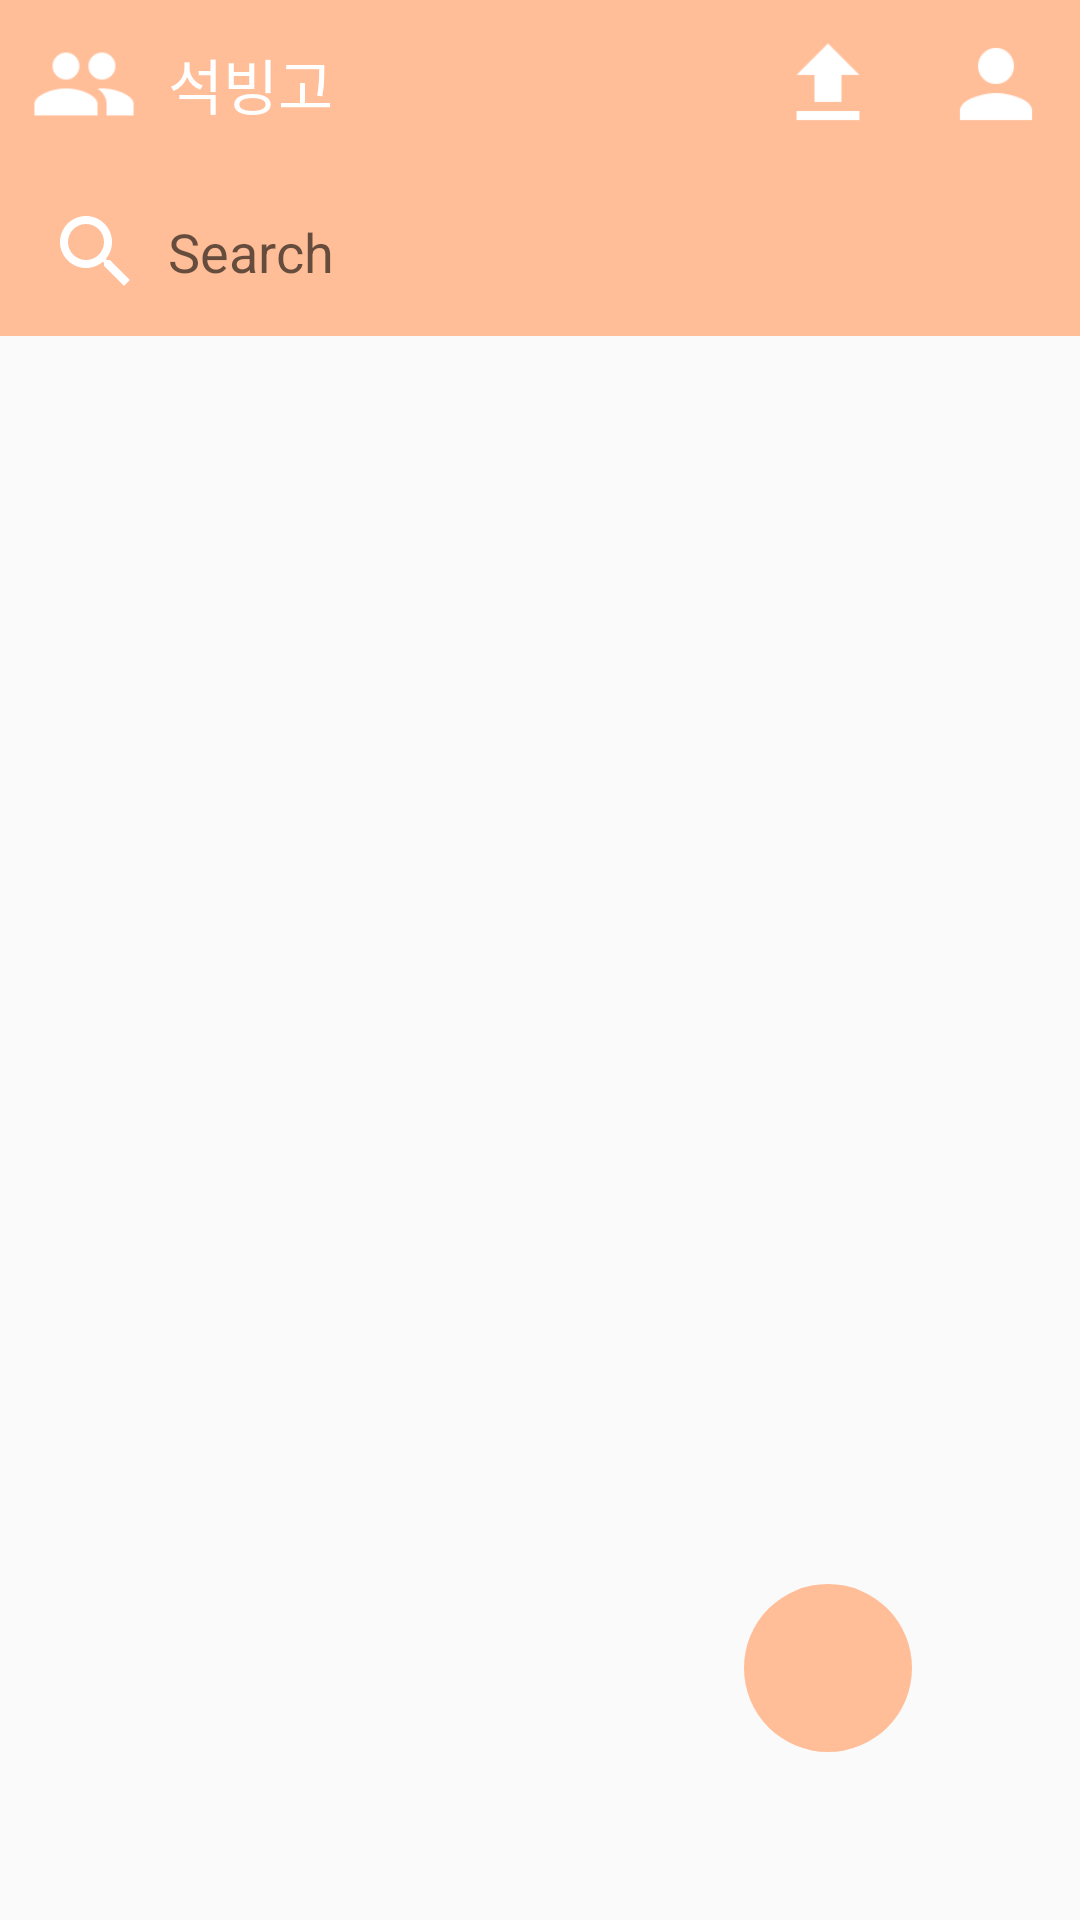

Icons on this 1080w x 1920h Android screen, each with the point to tap as point (x, y):
file upload: point (828, 81)
person: point (996, 84)
